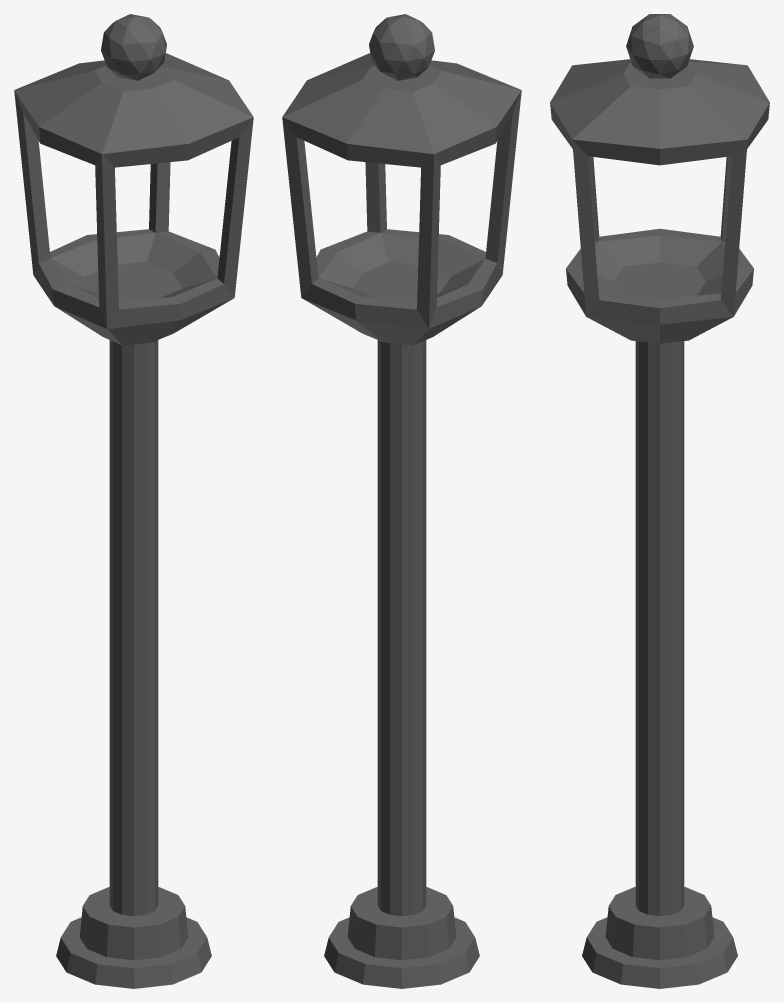
Rendered from Lamp.fbx.
3 renders of one model, left to right at view 1: azimuth 30°, elevation 25°; view 2: azimuth 150°, elevation 25°; view 3: azimuth 270°, elevation 25°, orthographic.
Visible parts, largest first — view 1: Lamp; view 2: Lamp; view 3: Lamp.
Part boxes in pixels (<box>): Lamp: <box>14,14,253,988</box>; Lamp: <box>282,14,521,988</box>; Lamp: <box>550,14,769,988</box>.
Size of the model in its own units: 72.81 by 344 by 72.81.
1 material, 1 textured.
